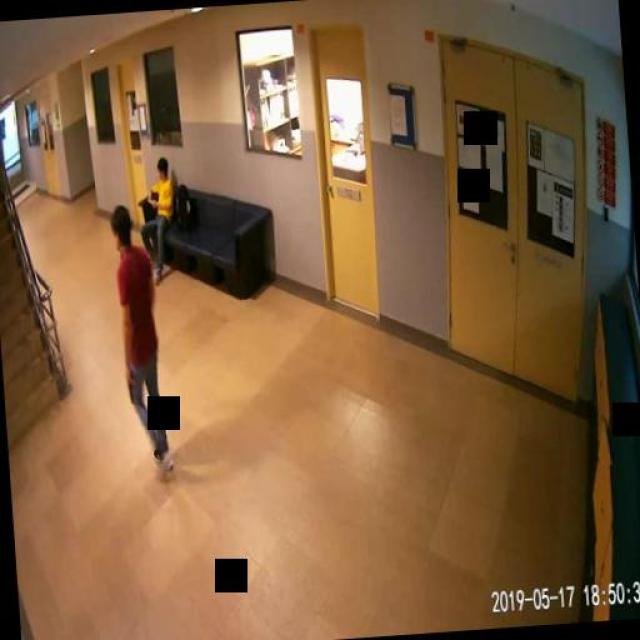gun: (123, 368, 135, 402)
